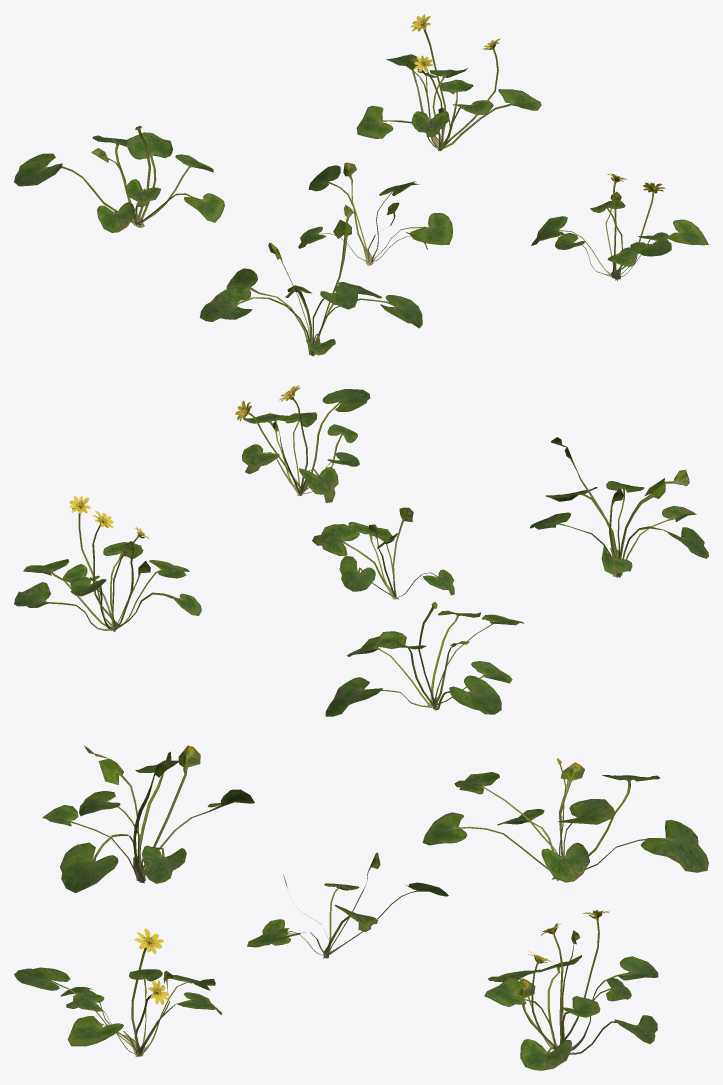
Rendered from celandine_01_1k.gltf.
3 views of the same model, one above another, from view 1: azimuth 30°, elevation 25°; view 2: azimuth 150°, elevation 25°; view 3: azimuth 270°, elevation 25° (orthographic). The views are drawn at different scales.
Parts seen in each view (by area): view 1: celandine_01_e_LOD0; view 2: celandine_01_e_LOD0; view 3: celandine_01_e_LOD0.
Part boxes in pixels (<box>): celandine_01_e_LOD0: <box>14,14,708,356</box>; celandine_01_e_LOD0: <box>14,385,708,716</box>; celandine_01_e_LOD0: <box>14,745,708,1070</box>.
Size of the model in its own units: 0.7318 by 0.1859 by 0.744.
1 material, 1 textured.
